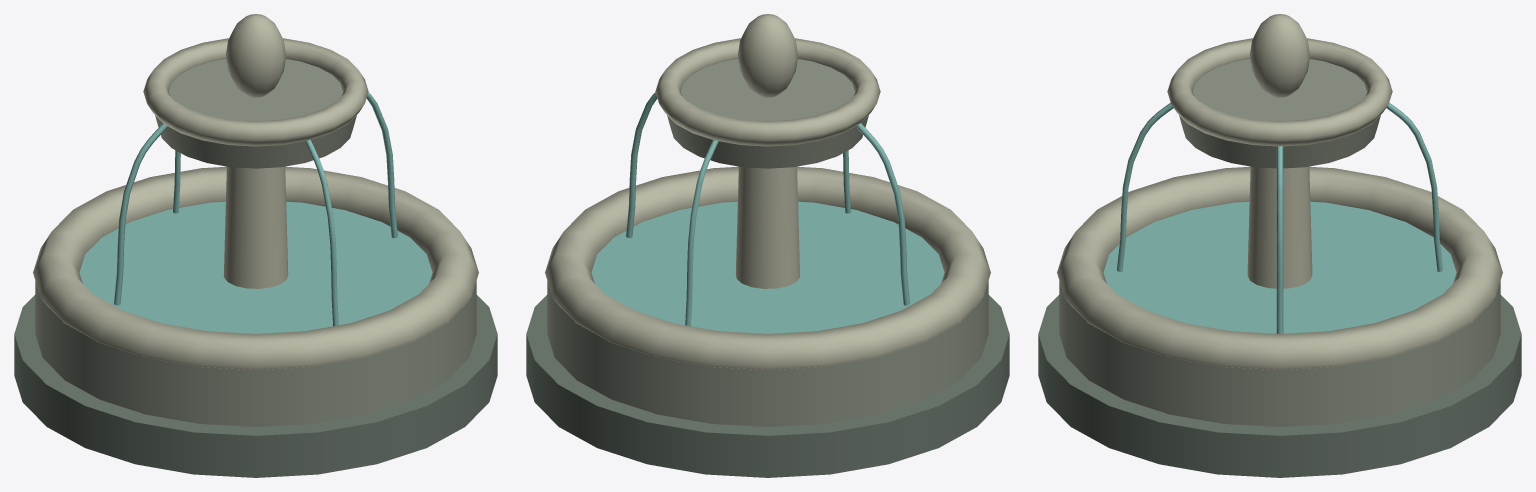
Rendered from fountain.glb.
The picture shows the model from 3 angles, left to right: view 1: azimuth 30°, elevation 25°; view 2: azimuth 150°, elevation 25°; view 3: azimuth 270°, elevation 25°; orthographic projection.
Visible parts, largest first — view 1: fountain_stone_light, fountain_stone, fountain_water, fountain_stone_dark; view 2: fountain_stone_light, fountain_stone, fountain_water, fountain_stone_dark; view 3: fountain_stone_light, fountain_stone, fountain_water, fountain_stone_dark.
Boxes of the visible parts, x1,y1,x2,y2 form: fountain_stone_light: (33, 14, 478, 369); fountain_stone: (35, 59, 476, 426); fountain_water: (79, 92, 432, 333); fountain_stone_dark: (14, 295, 497, 477); fountain_stone_light: (545, 14, 990, 369); fountain_stone: (547, 59, 988, 426); fountain_water: (591, 92, 944, 333); fountain_stone_dark: (526, 295, 1009, 477); fountain_stone_light: (1057, 14, 1502, 369); fountain_stone: (1059, 59, 1500, 426); fountain_water: (1103, 103, 1456, 333); fountain_stone_dark: (1038, 295, 1521, 477).
Bounding box in the file's own units: 2.08 × 1.71 × 2.08.
